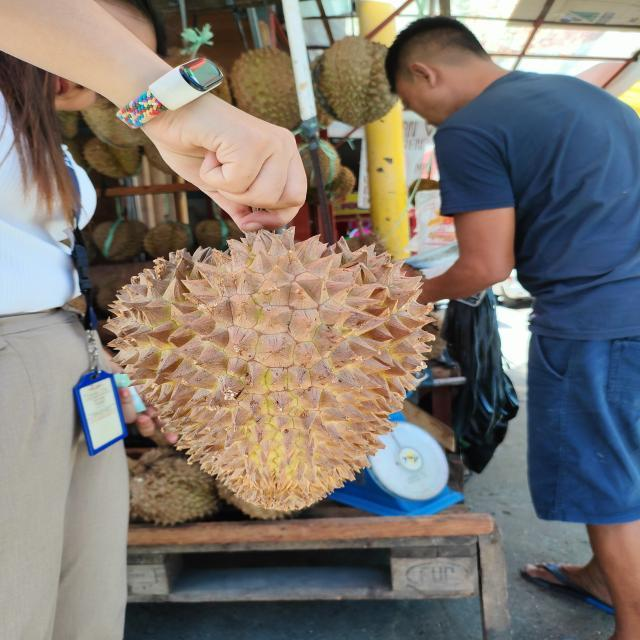mature: (109, 231, 445, 517)
